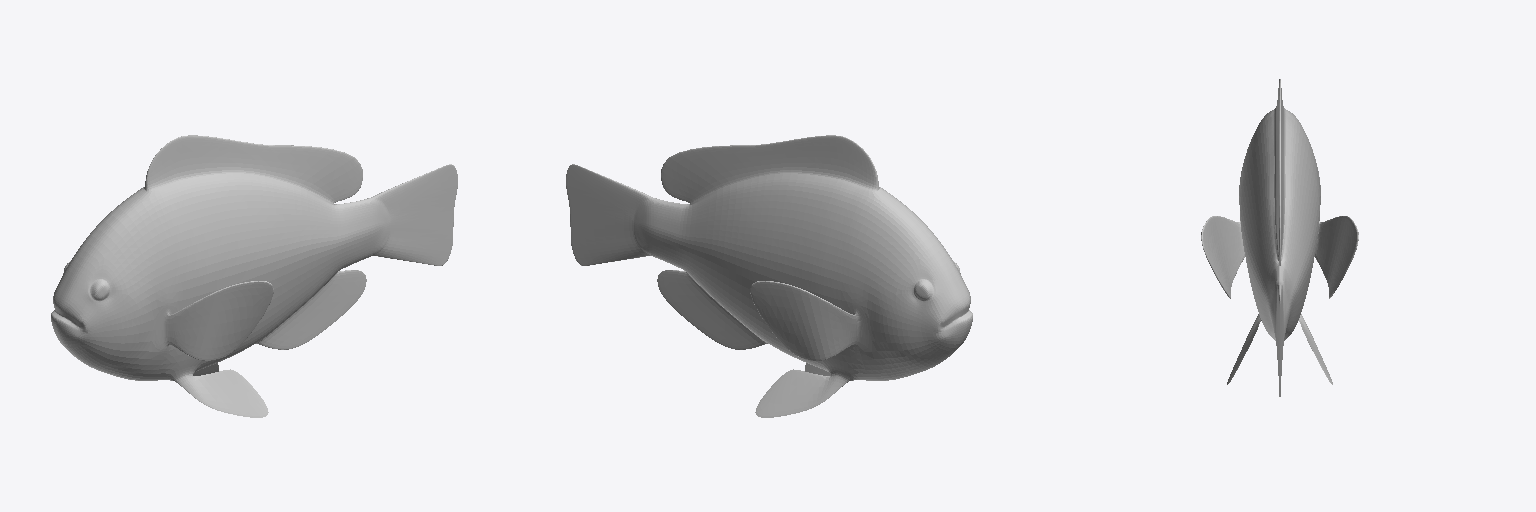
The model's file is fish.obj.
3 renders of one model, left to right at view 1: azimuth 30°, elevation 25°; view 2: azimuth 150°, elevation 25°; view 3: azimuth 270°, elevation 25°, orthographic.
Visible parts, largest first — view 1: 12265_Fish_v1_L2; view 2: 12265_Fish_v1_L2; view 3: 12265_Fish_v1_L2.
Boxes of the visible parts, x1=… form: 12265_Fish_v1_L2: x1=51, y1=135, x2=457, y2=417; 12265_Fish_v1_L2: x1=566, y1=135, x2=972, y2=417; 12265_Fish_v1_L2: x1=1201, y1=79, x2=1358, y2=396.
Size of the model in its own units: 8.61 by 5.6 by 2.91.